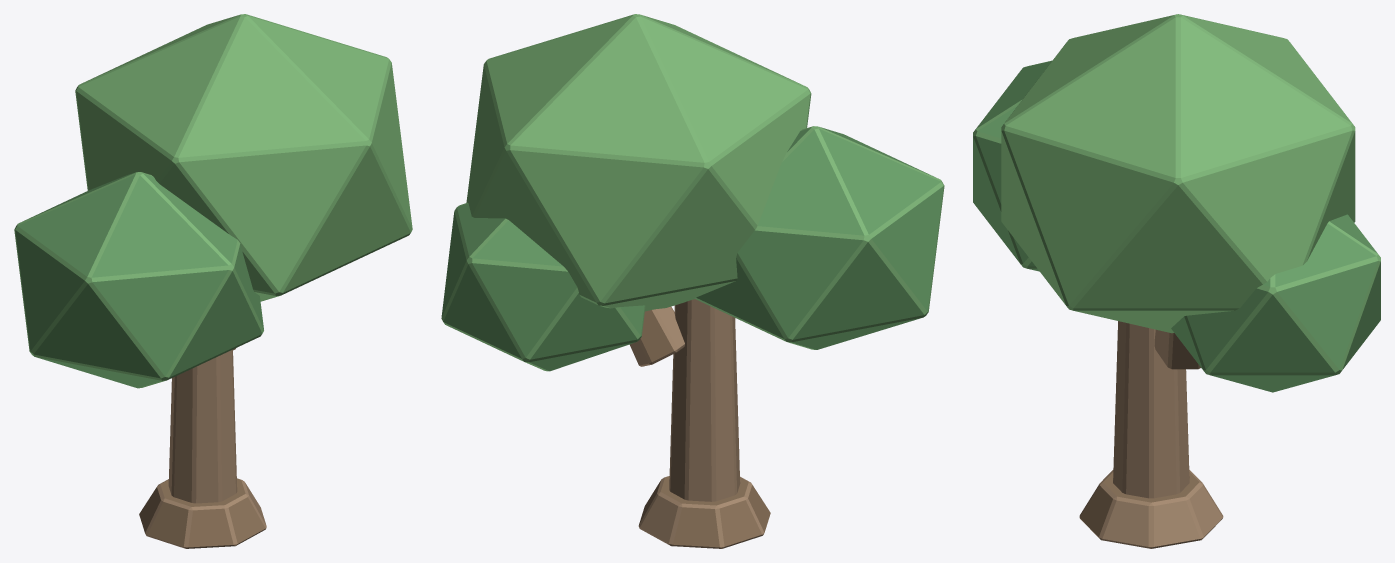
3 views of the same model, side by side, from view 1: azimuth 30°, elevation 25°; view 2: azimuth 150°, elevation 25°; view 3: azimuth 270°, elevation 25° (orthographic). The views are drawn at different scales.
Visible parts, largest first — view 1: 树冠.007, 树干.007; view 2: 树冠.007, 树干.007; view 3: 树冠.007, 树干.007.
Boxes of the visible parts, box(x1,y1,x2,y2) form: 树冠.007: box(14, 14, 412, 388); 树干.007: box(139, 348, 266, 548); 树冠.007: box(441, 14, 944, 371); 树干.007: box(629, 299, 770, 548); 树冠.007: box(973, 14, 1380, 392); 树干.007: box(1079, 321, 1223, 548).
Bounding box in the file's own units: 370 × 435 × 302.
